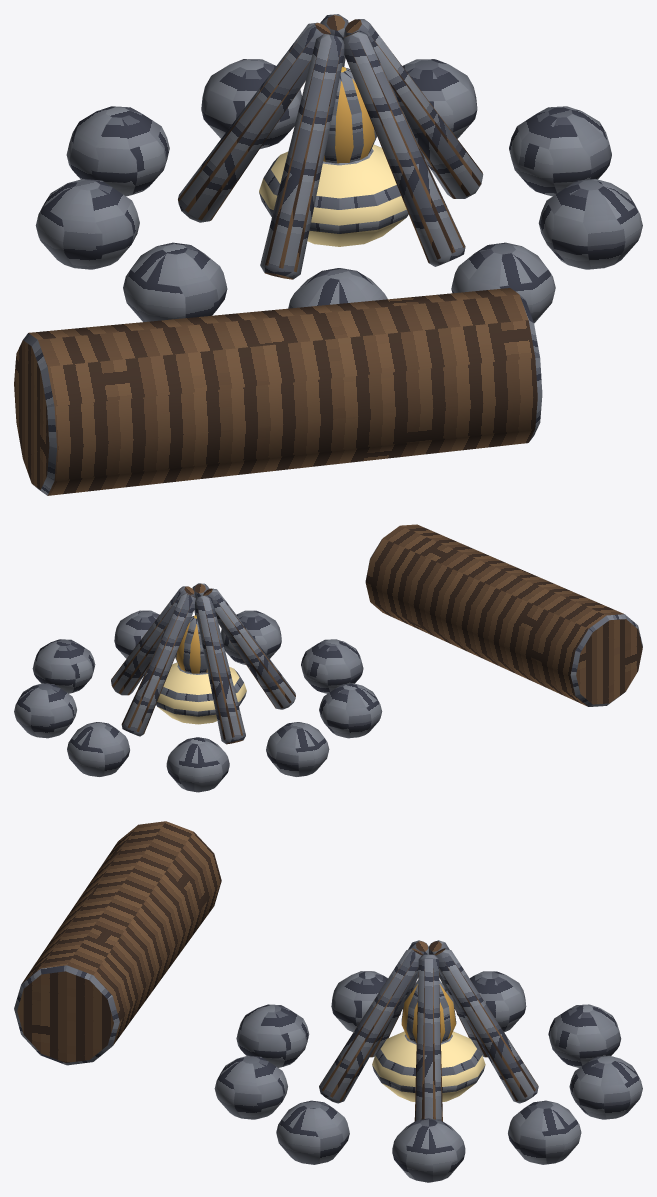
Rendered from spec_campfire_1.glb.
3 renders of one model, top to bottom at view 1: azimuth 30°, elevation 25°; view 2: azimuth 150°, elevation 25°; view 3: azimuth 270°, elevation 25°, orthographic. The views are drawn at different scales.
Visible parts, largest first — view 1: spec_campfire_1; view 2: spec_campfire_1; view 3: spec_campfire_1.
Boxes of the visible parts, left/top/right/bottom form: spec_campfire_1: left=14, top=14, right=642, bottom=495; spec_campfire_1: left=14, top=524, right=642, bottom=792; spec_campfire_1: left=14, top=821, right=642, bottom=1182.
Bounding box in the file's own units: 2.18 × 0.5789 × 2.17.
Materials: 4 (4 with a texture image).
